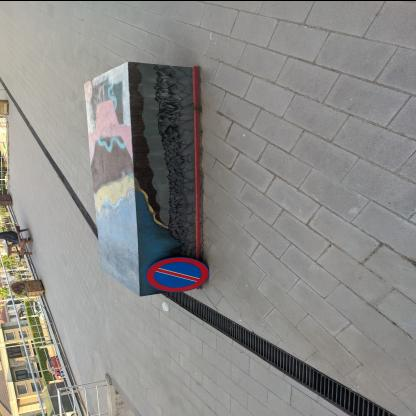No Waiting: (147, 258, 212, 293)
